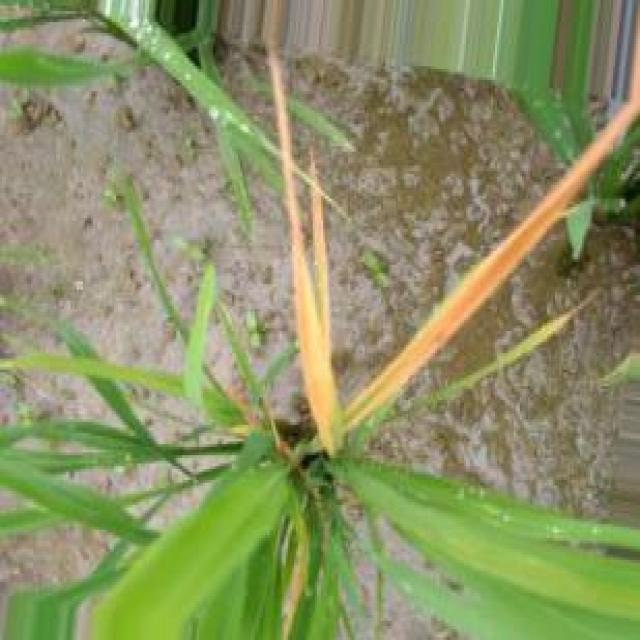Rice Tungro: (269, 4, 640, 455)
